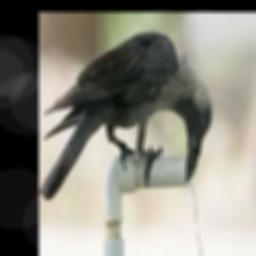Crow: (40, 30, 212, 200)
